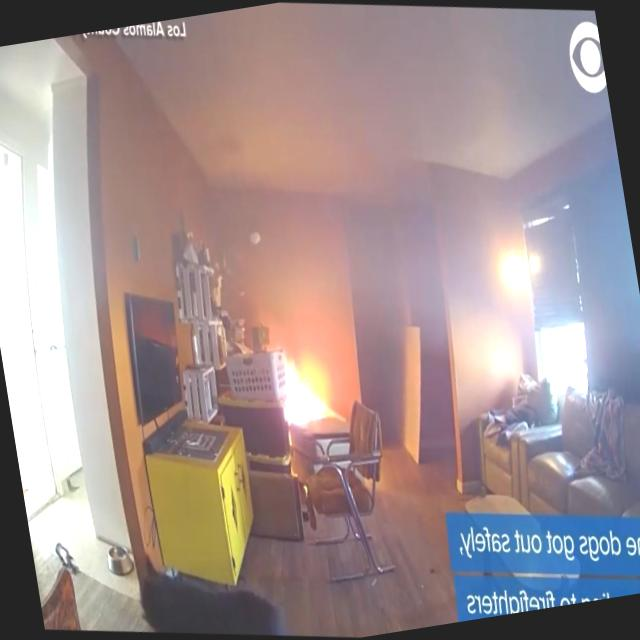fire: (264, 329, 356, 450)
